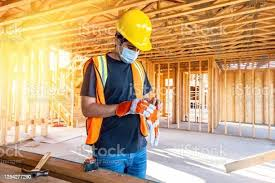Helmet: (115, 7, 157, 45)
Jacket: (84, 58, 153, 143)
Mask: (119, 46, 146, 66)
